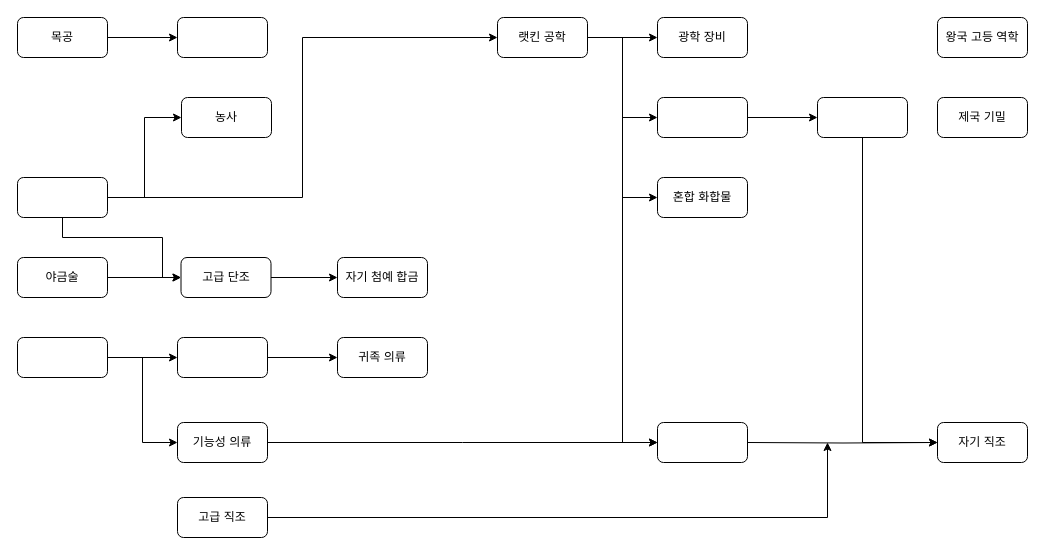
Image size: 1045x555. Some labels were removed from this diagram. Here are the shapes that lost their labels. From the top down, the centre of each, then its label:
At (x=222, y=37): "방어 설비".
At (x=702, y=117): "정밀 가공".
At (x=862, y=117): "우주 역학".
At (x=62, y=197): "단조".
At (x=62, y=357): "기본 의류".
At (x=222, y=357): "고급 의류".
At (x=702, y=442): "서보 보조 (servo Assist)".
